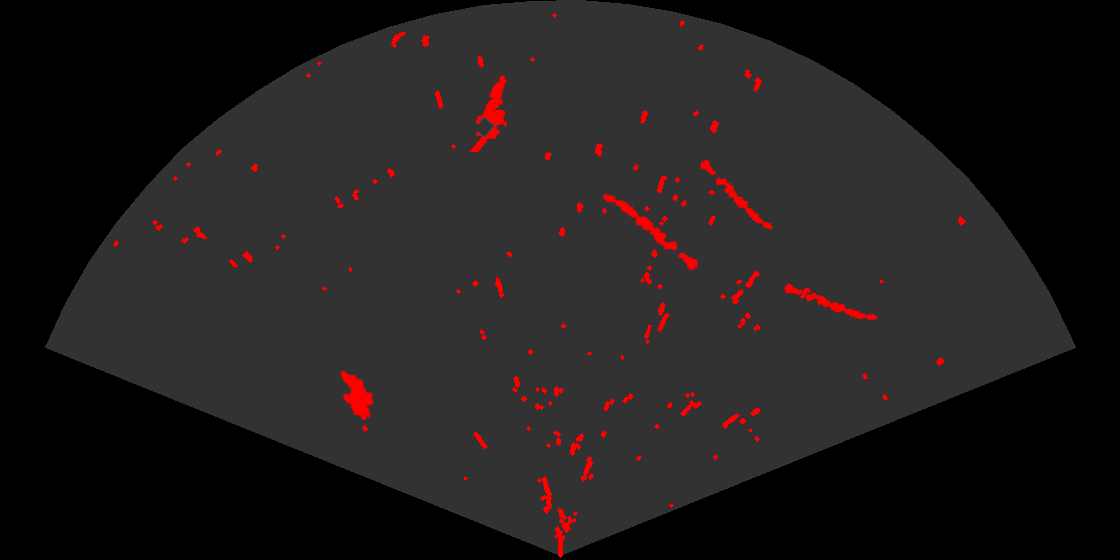AUV: (338, 369, 375, 422)
chain: (601, 192, 700, 272), (699, 158, 774, 231), (782, 282, 879, 322)
frogman: (468, 74, 509, 152)
